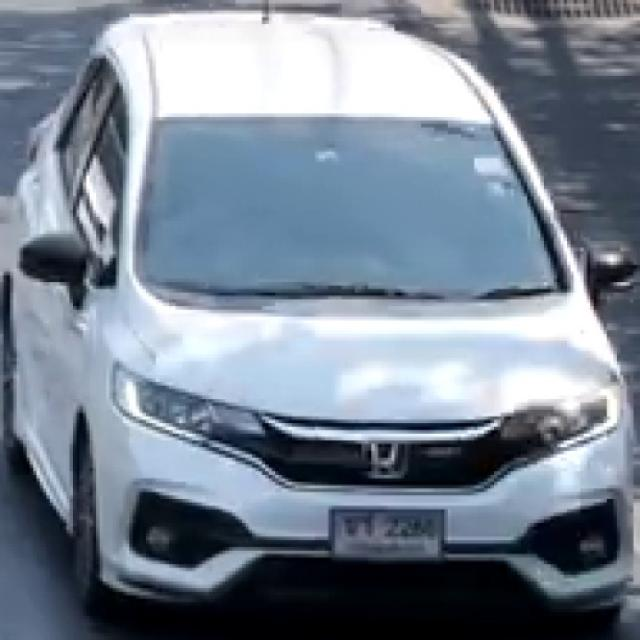plate: (332, 506, 446, 562)
